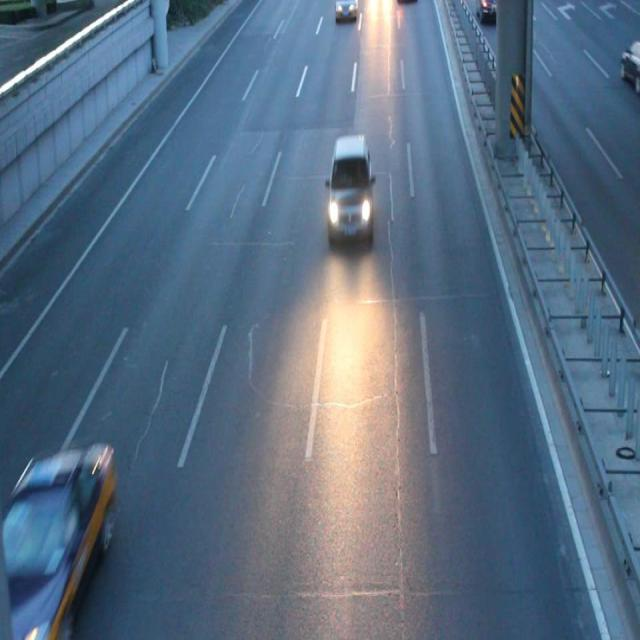car: (1, 444, 115, 640), (326, 135, 374, 242), (336, 1, 356, 22)
